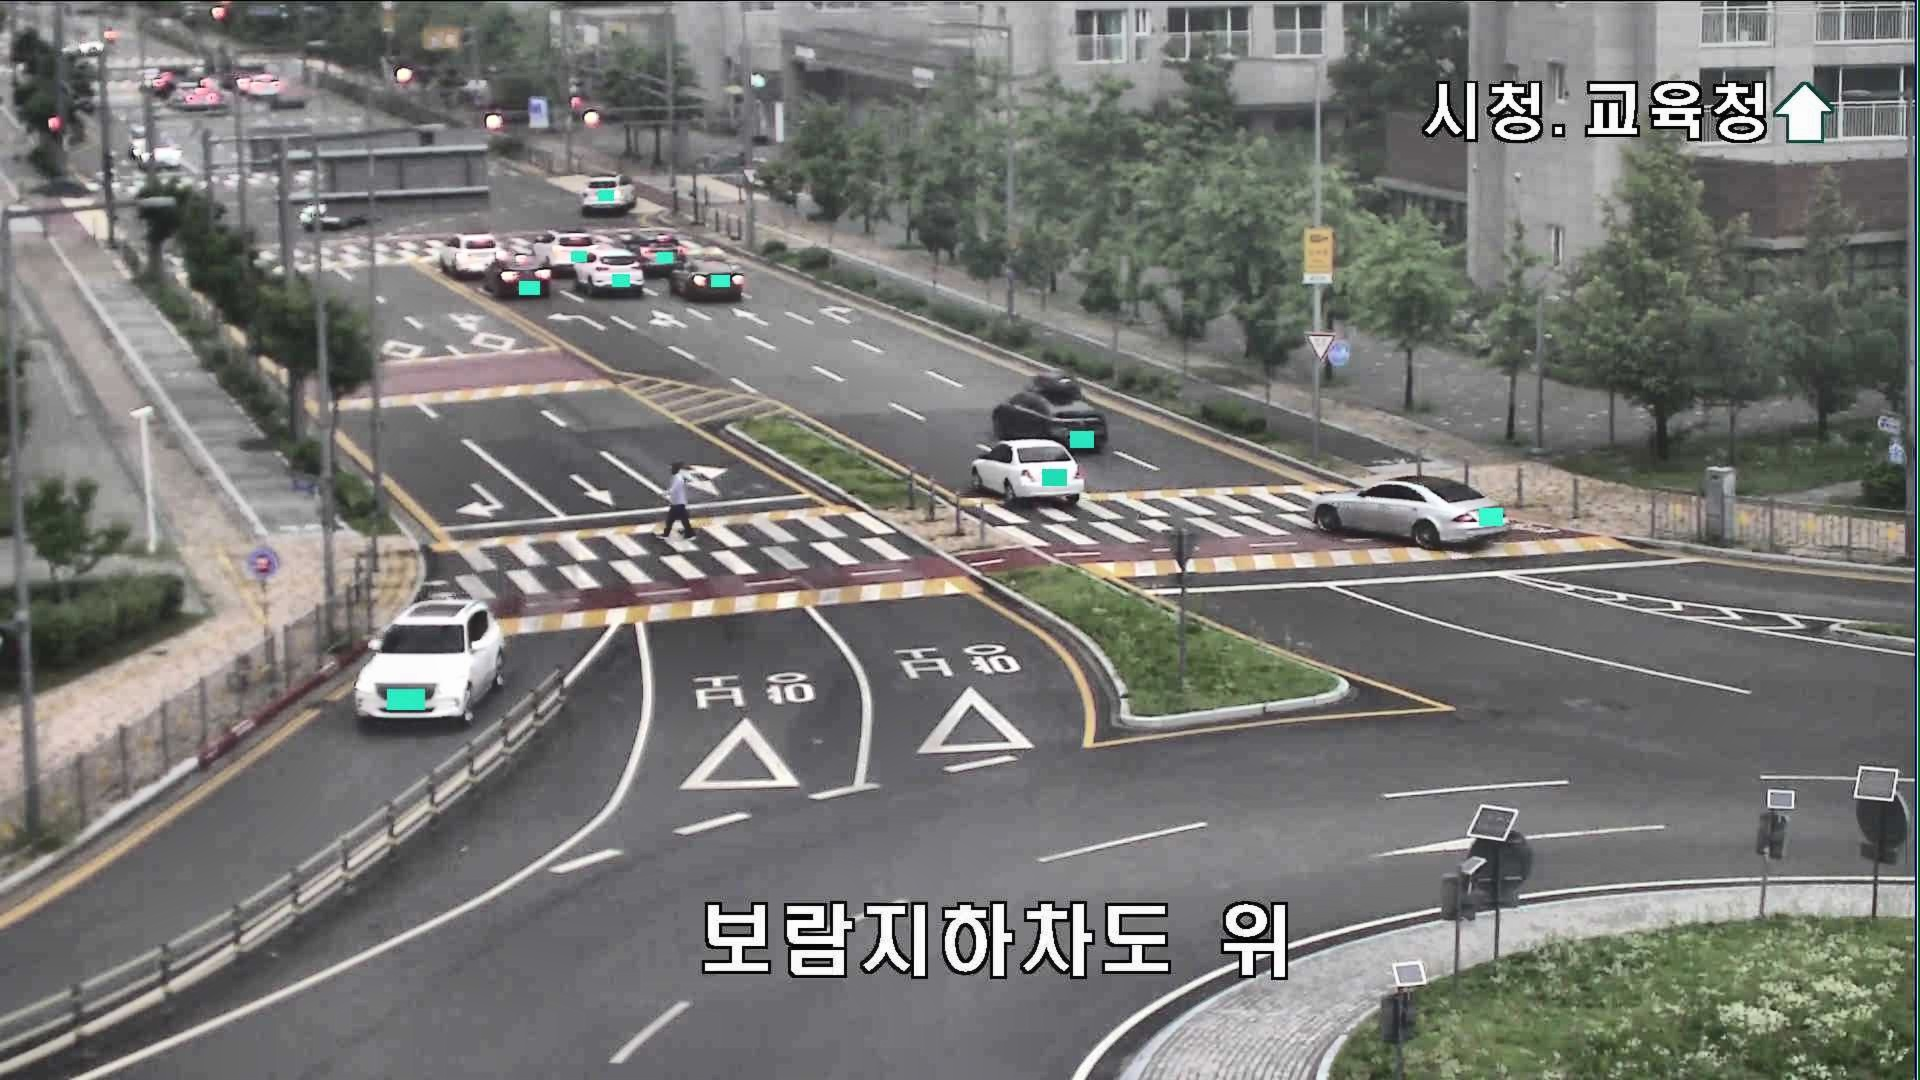crosswalk: (655, 462, 696, 541)
